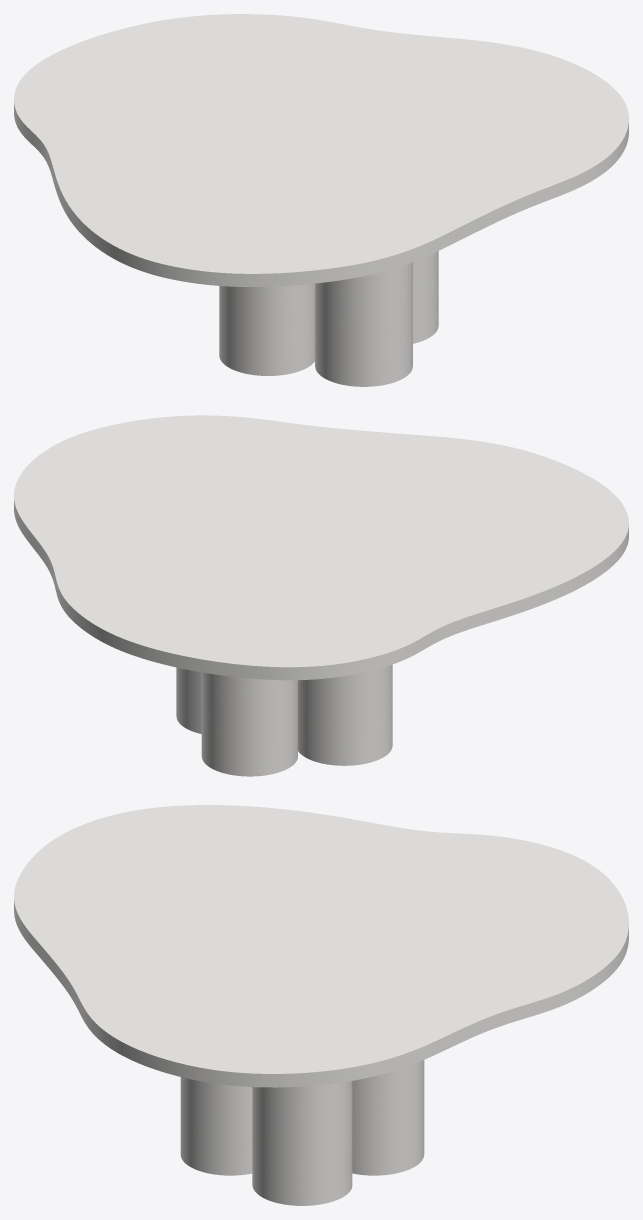
The model's file is purewhite_topone_standard_secondtable.glb.
The picture shows the model from 3 angles, top to bottom: view 1: azimuth 30°, elevation 25°; view 2: azimuth 150°, elevation 25°; view 3: azimuth 270°, elevation 25°; orthographic projection. The views are drawn at different scales.
Visible parts, largest first — view 1: standard_topone, secondtable; view 2: standard_topone, secondtable; view 3: standard_topone, secondtable.
Part boxes in pixels (x1,y1,x2,y2): standard_topone: [14, 14, 628, 286]; secondtable: [219, 251, 438, 386]; standard_topone: [14, 415, 628, 680]; secondtable: [176, 664, 392, 776]; standard_topone: [14, 805, 628, 1087]; secondtable: [180, 1060, 424, 1205].
Size of the model in its own units: 6.83 by 2.5 by 6.6.
1 material, 1 textured.
